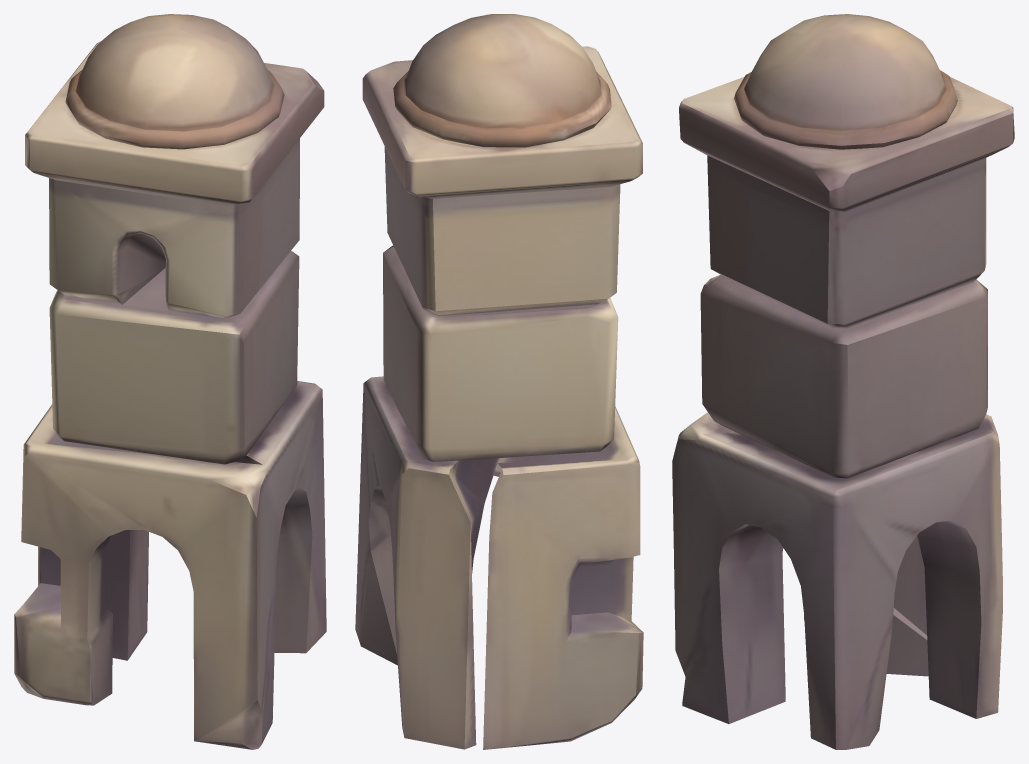
Rendered from SM_RuinTower_01.fbx.
3 views of the same model, side by side, from view 1: azimuth 30°, elevation 25°; view 2: azimuth 150°, elevation 25°; view 3: azimuth 270°, elevation 25° (orthographic). The views are drawn at different scales.
Parts seen in each view (by area): view 1: SM_RuinTower_01; view 2: SM_RuinTower_01; view 3: SM_RuinTower_01.
Boxes of the visible parts, <box> form: SM_RuinTower_01: <box>14,14,326,749</box>; SM_RuinTower_01: <box>355,14,643,749</box>; SM_RuinTower_01: <box>672,14,1014,749</box>.
Size of the model in its own units: 37.29 by 79.93 by 36.57.
1 material, 1 textured.
